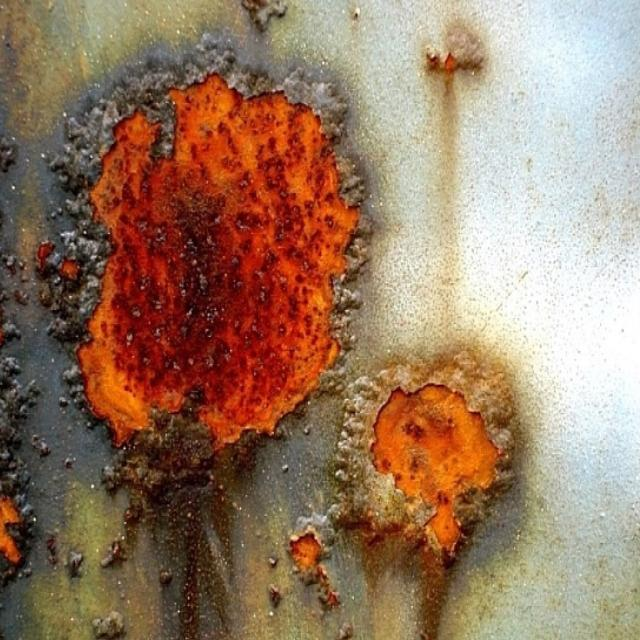Uniform Corrosion: (79, 74, 358, 447), (371, 384, 499, 553), (0, 496, 22, 565), (289, 529, 323, 573), (426, 50, 483, 74)
